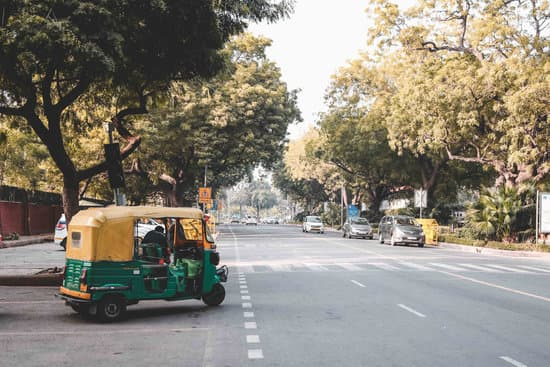car: (378, 214, 426, 247), (342, 216, 373, 239), (303, 215, 325, 234)
threewheel: (58, 206, 228, 322)
